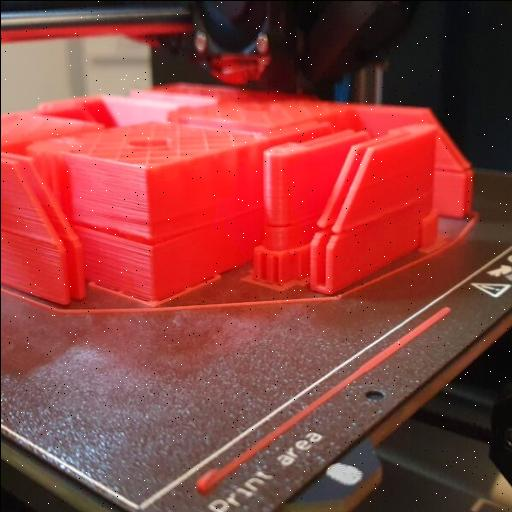cracks: (83, 215, 207, 257), (282, 208, 388, 248), (432, 152, 483, 183)
